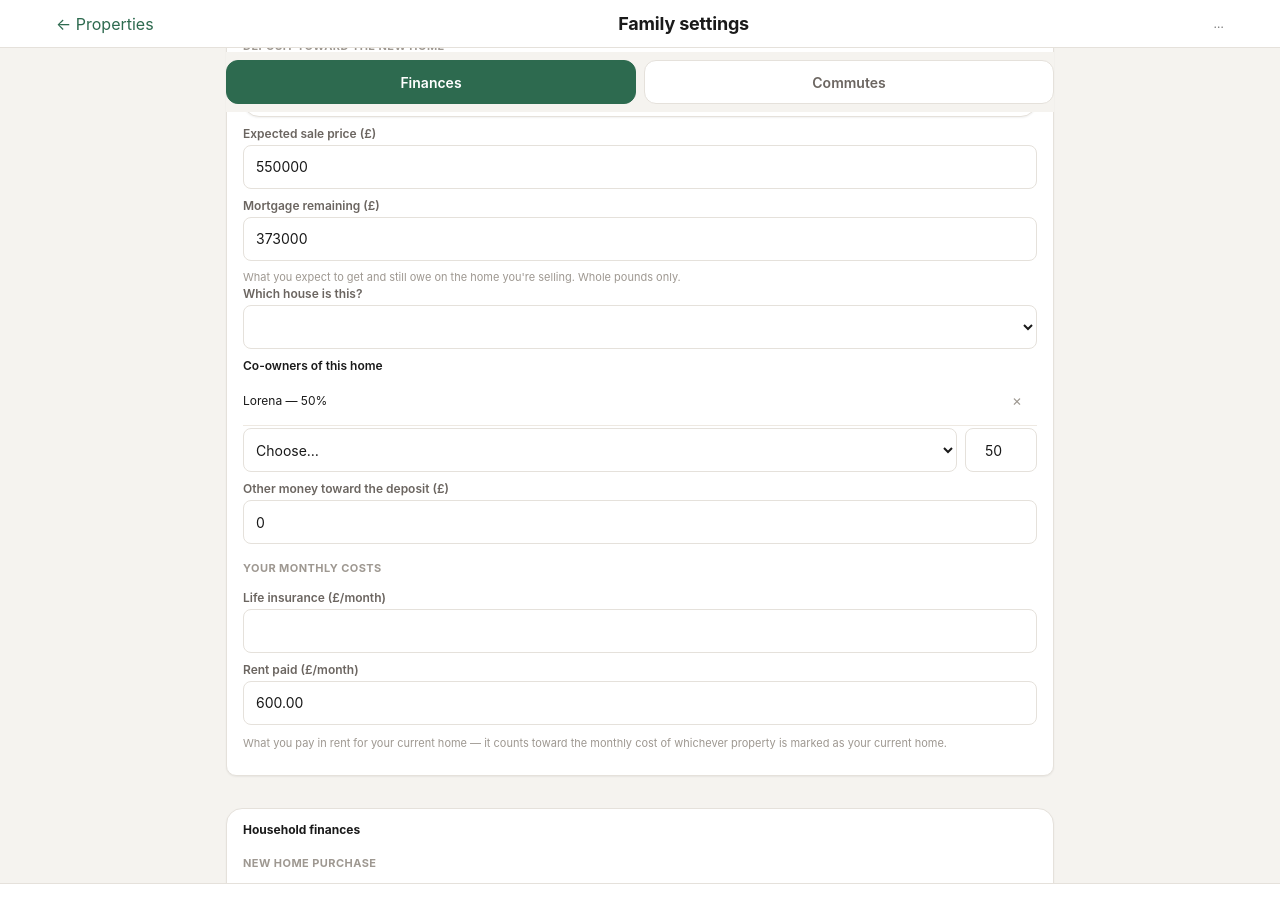
it: SettingsView — home co-owners and the house link › adds a co-owner at the default 50% when only the name is picked
(page scrolled)
Select "Ashby" in the dropdown named "Add a co-owner" at (600, 450), box [243,428,957,472]
(page scrolled)
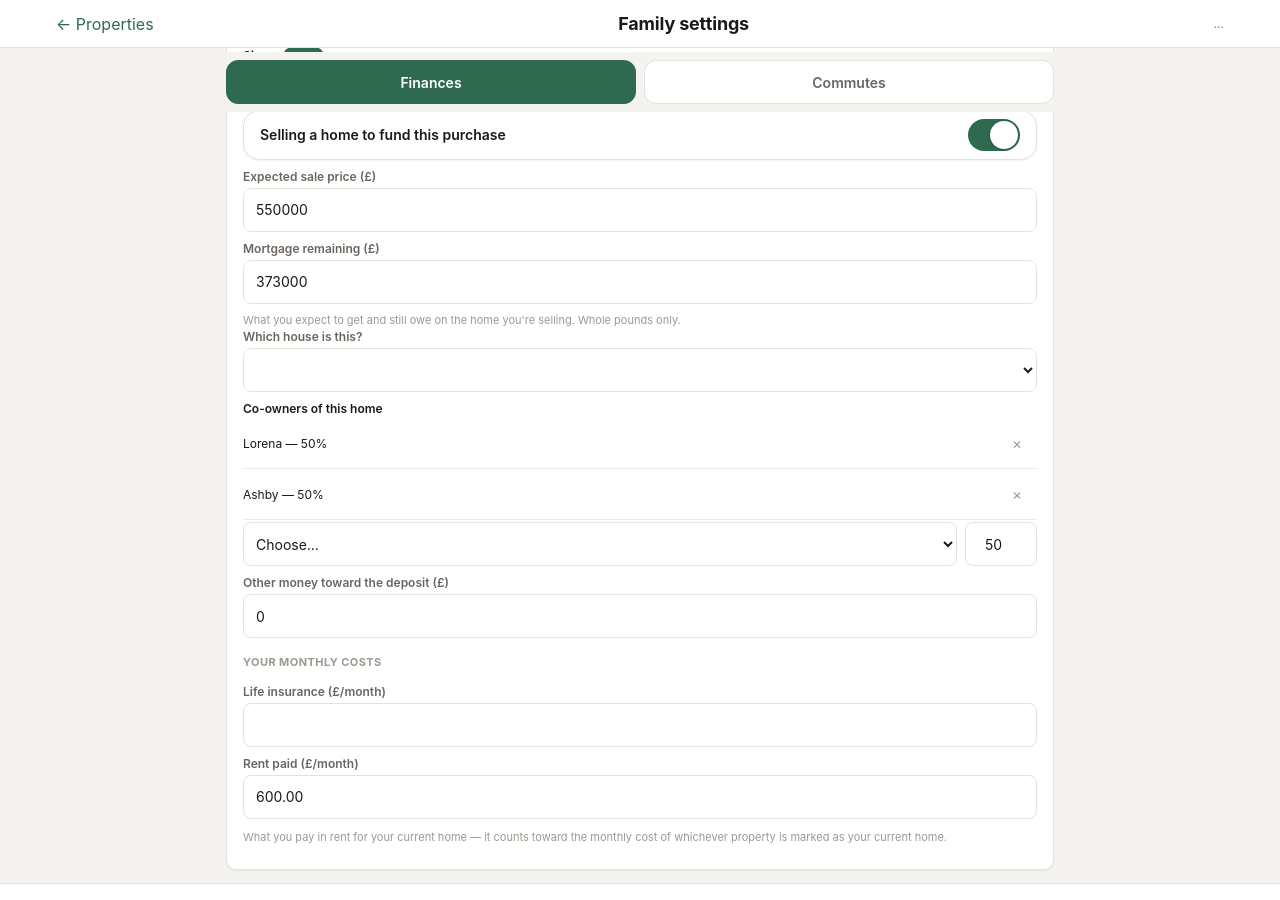
Check: the element with class "settings-person" shows "Ashby — 50%", box [243,487,324,502]
